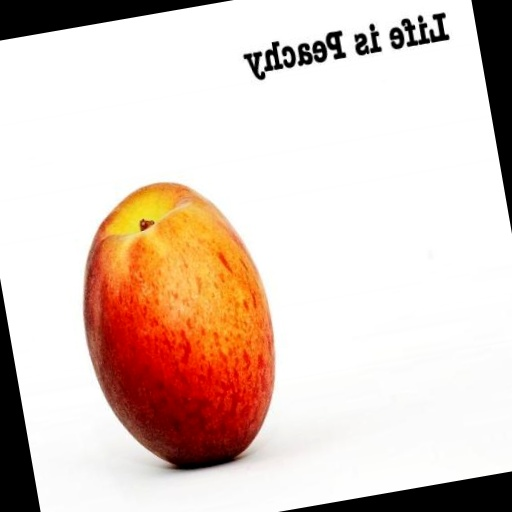fruit: (111, 149, 430, 512)
